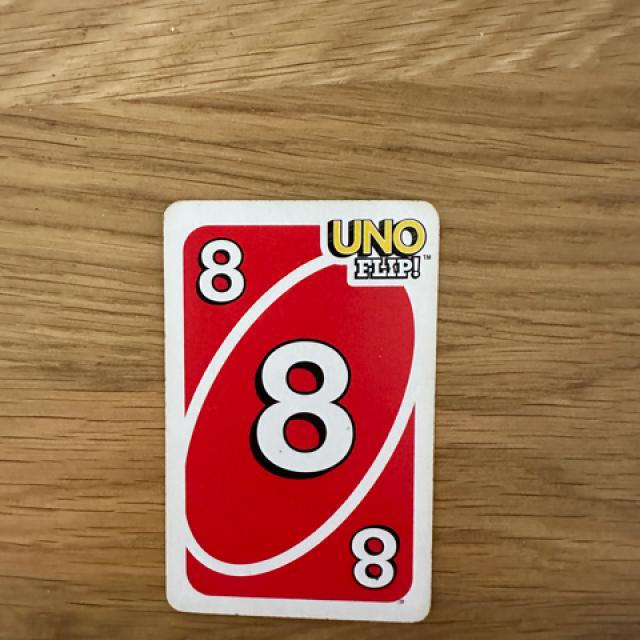lred-8: (176, 213, 269, 323)
